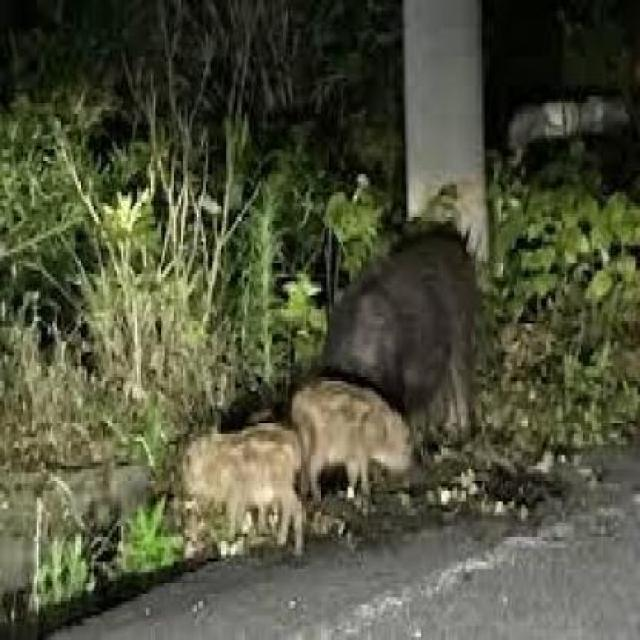0: (283, 370, 423, 504)
Wild Boar: (296, 210, 484, 472), (179, 420, 310, 558)
